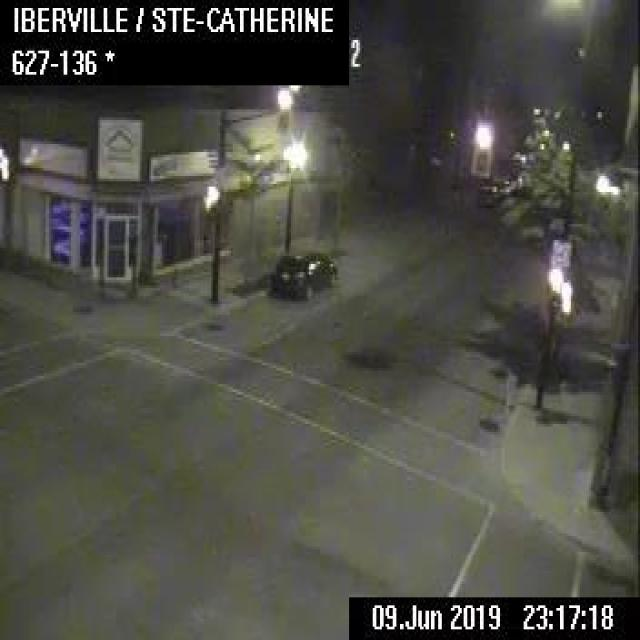vehicle: (271, 248, 336, 299), (476, 171, 513, 208)
